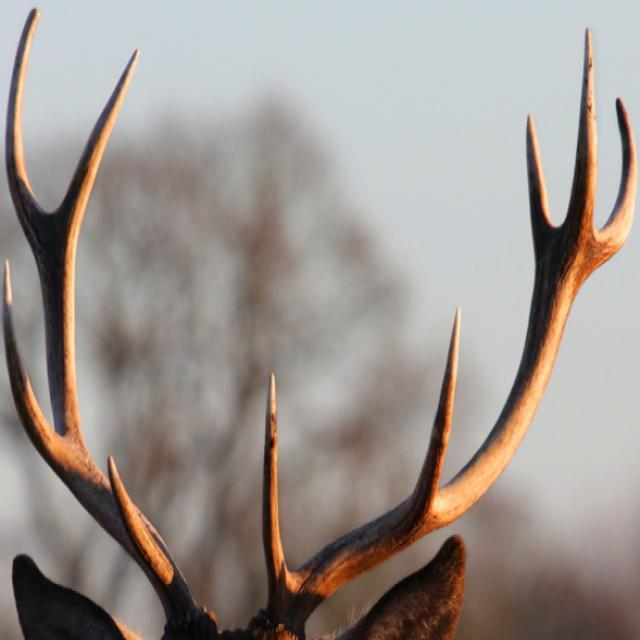L-F: (263, 25, 599, 640)
L-G1: (261, 367, 292, 595)
L-G2: (411, 304, 463, 493)
L-G3: (525, 110, 556, 267)
L-G4: (587, 96, 638, 282)
R-G1: (105, 450, 174, 585)
R-G2: (2, 256, 60, 479)
R-G3: (4, 5, 54, 283)
